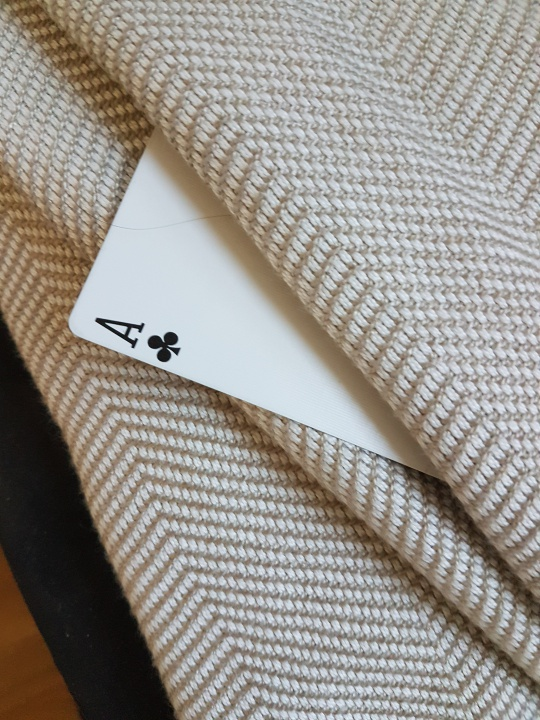ace: (59, 59, 497, 488)
